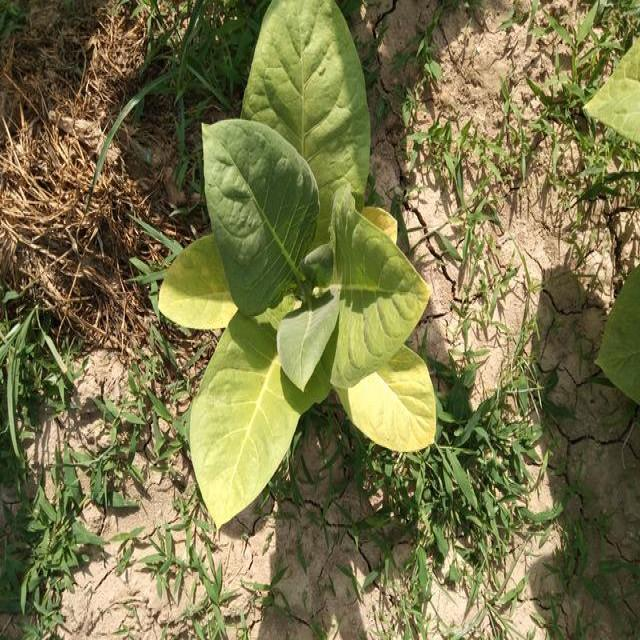crop: (152, 1, 444, 538)
